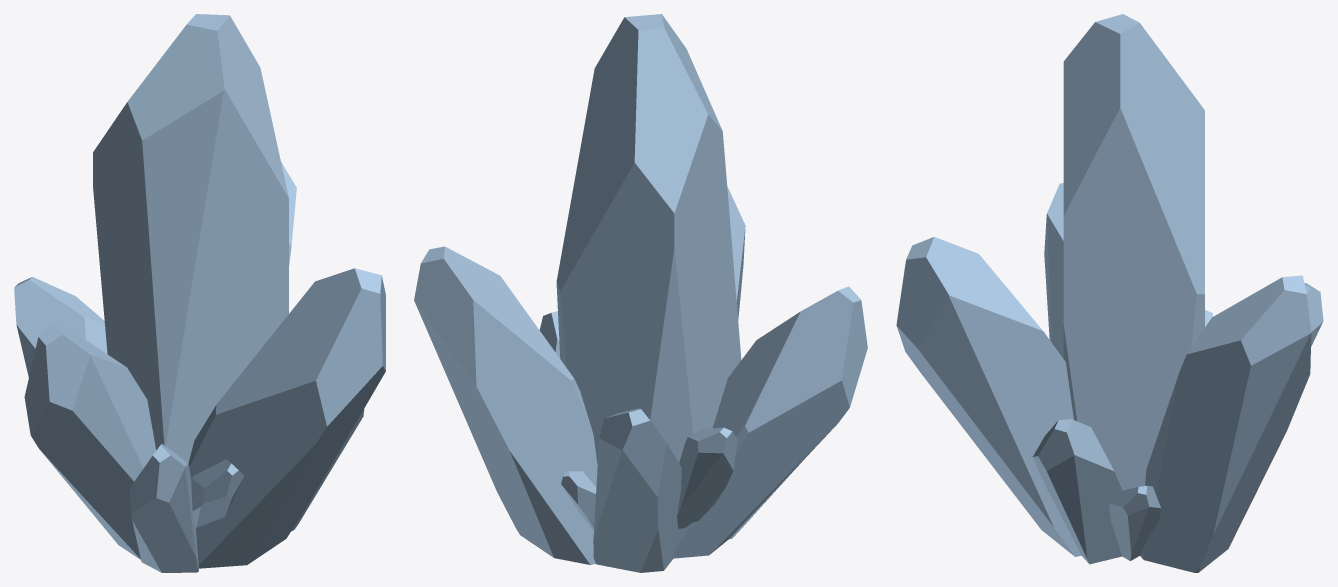
Rendered from crystals_cyan.fbx.
3 views of the same model, side by side, from view 1: azimuth 30°, elevation 25°; view 2: azimuth 150°, elevation 25°; view 3: azimuth 270°, elevation 25° (orthographic).
Parts seen in each view (by area): view 1: Cube.005; view 2: Cube.005; view 3: Cube.005.
Part boxes in pixels (x1,y1,x2,y2): Cube.005: (14, 14, 385, 572); Cube.005: (414, 14, 867, 572); Cube.005: (896, 14, 1323, 572).
Bounding box in the file's own units: 554 × 791 × 604.
